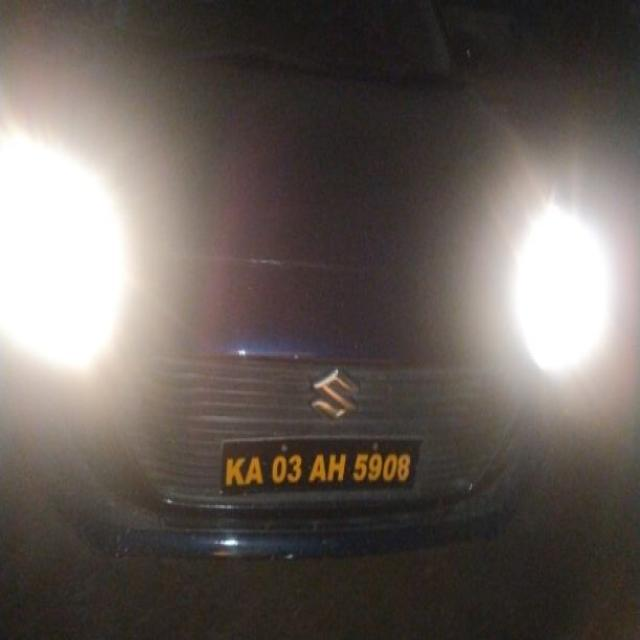license_plate: (128, 346, 520, 544), (218, 432, 422, 497)
